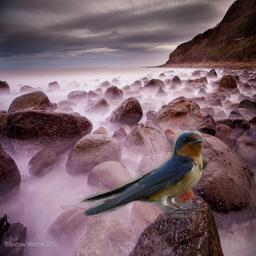Swallow: (59, 130, 211, 218)
